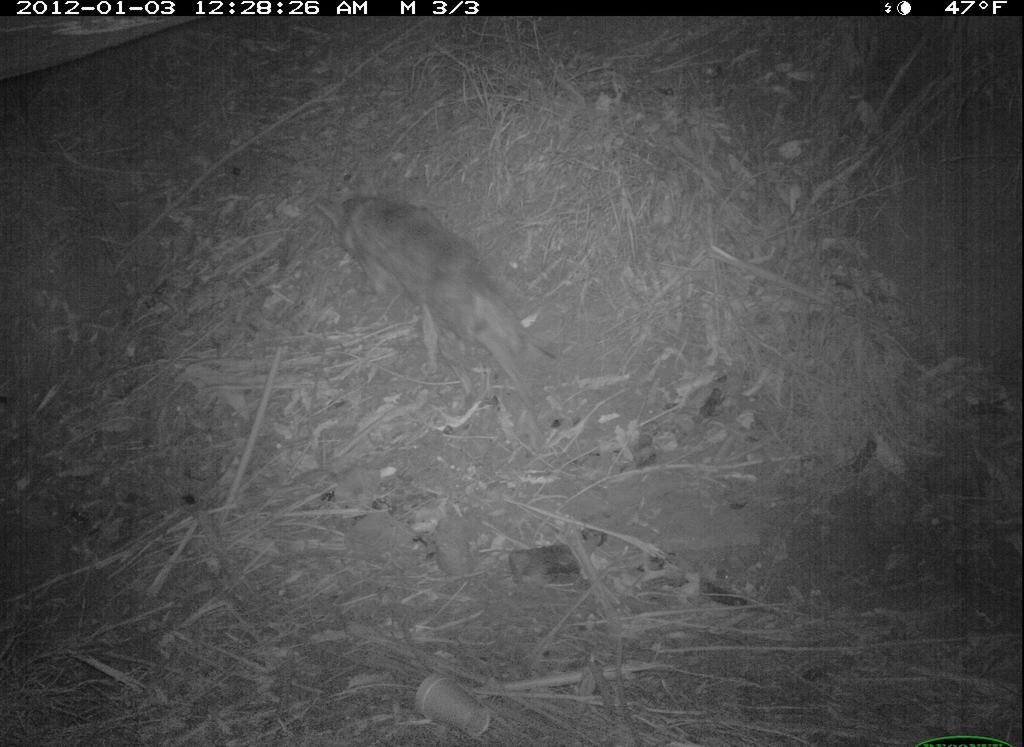coyote: (310, 176, 570, 460)
